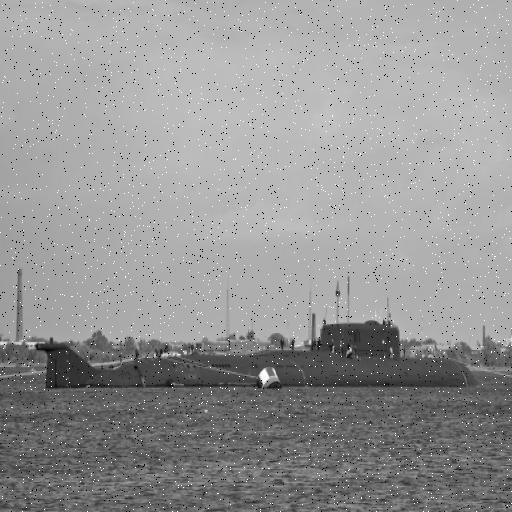submarine: (43, 293, 511, 389)
